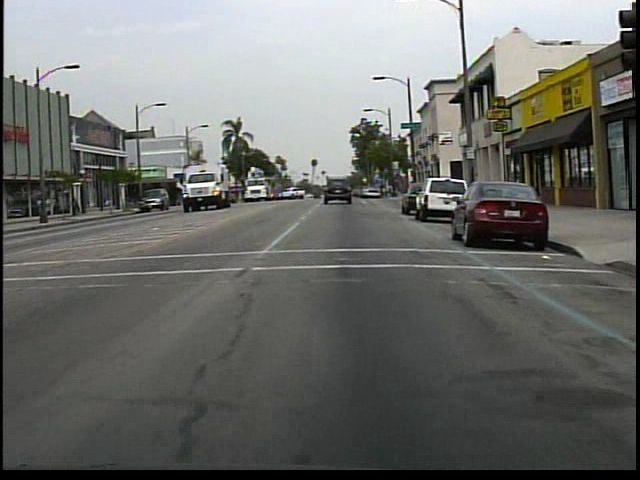person: (72, 192, 82, 217)
